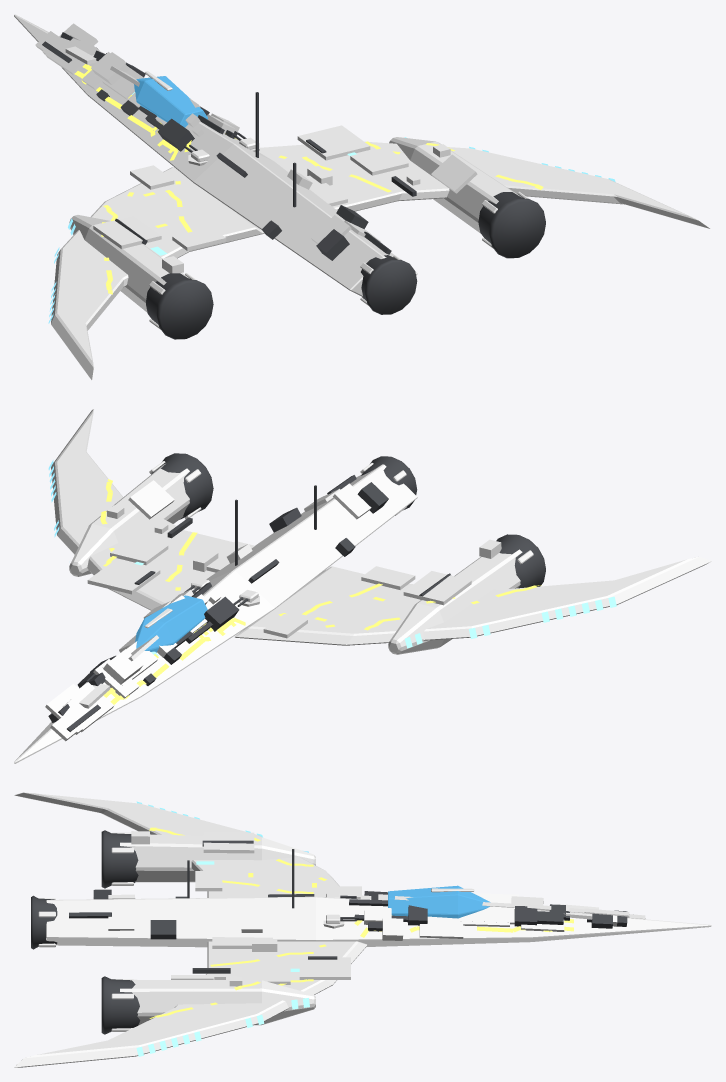
The model's file is strizh.glb.
The picture shows the model from 3 angles, top to bottom: view 1: azimuth 30°, elevation 25°; view 2: azimuth 150°, elevation 25°; view 3: azimuth 270°, elevation 25°; orthographic projection. The views are drawn at different scales.
Visible parts, largest first — view 1: Корпус, Накладные_плиты, Крыло_полумесяц.001, Крыло_полумесяц, Механика, Кожух_дюзы.001, Кожух_дюзы, Форсажная_гондола, Форсажная_гондола.001, Кожух_дюзы.002, Кабина, Разметка; view 2: Крыло_полумесяц.001, Накладные_плиты, Корпус, Крыло_полумесяц, Механика, Форсажная_гондола.001, Форсажная_гондола, Кабина, Разметка, Кожух_дюзы, Кожух_дюзы.001, Решётки (+1 smaller); view 3: Корпус, Накладные_плиты, Крыло_полумесяц, Крыло_полумесяц.001, Форсажная_гондола, Механика, Форсажная_гондола.001, Кабина, Кожух_дюзы, Кожух_дюзы.001, Разметка, Кожух_дюзы.002 (+1 smaller).
Part boxes in pixels (box(x1,y1,x2,y2)): Корпус: box(14, 14, 417, 296); Накладные_плиты: box(35, 23, 477, 273); Крыло_полумесяц.001: box(51, 167, 264, 379); Крыло_полумесяц: box(259, 141, 711, 229); Механика: box(42, 32, 416, 260); Кожух_дюзы.001: box(146, 273, 213, 339); Кожух_дюзы: box(478, 192, 545, 258); Форсажная_гондола: box(389, 137, 521, 233); Форсажная_гондола.001: box(69, 215, 189, 312); Кожух_дюзы.002: box(361, 255, 417, 314); Кабина: box(134, 76, 207, 127); Разметка: box(74, 64, 543, 294); Крыло_полумесяц.001: box(234, 557, 711, 645); Накладные_плиты: box(45, 480, 501, 741); Корпус: box(14, 464, 417, 763); Крыло_полумесяц: box(51, 409, 233, 610); Механика: box(48, 475, 450, 731); Форсажная_гондола.001: box(388, 549, 522, 654); Форсажная_гондола: box(69, 463, 189, 576); Кабина: box(135, 595, 207, 652); Разметка: box(100, 479, 541, 704); Кожух_дюзы: box(151, 453, 213, 519); Кожух_дюзы.001: box(496, 534, 545, 588); Решётки: box(48, 460, 616, 655); Корпус: box(46, 896, 711, 947); Накладные_плиты: box(108, 831, 645, 986); Крыло_полумесяц: box(14, 941, 367, 1067); Крыло_полумесяц.001: box(14, 792, 339, 897); Форсажная_гондола: box(120, 979, 315, 1025); Механика: box(69, 840, 627, 973); Форсажная_гондола.001: box(120, 834, 315, 882); Кабина: box(388, 885, 490, 918); Кожух_дюзы: box(101, 976, 140, 1034); Кожух_дюзы.001: box(101, 830, 138, 888); Разметка: box(149, 827, 573, 1018); Кожух_дюзы.002: box(31, 895, 57, 949).
Size of the model in its own units: 1.79 by 0.3501 by 1.94.
